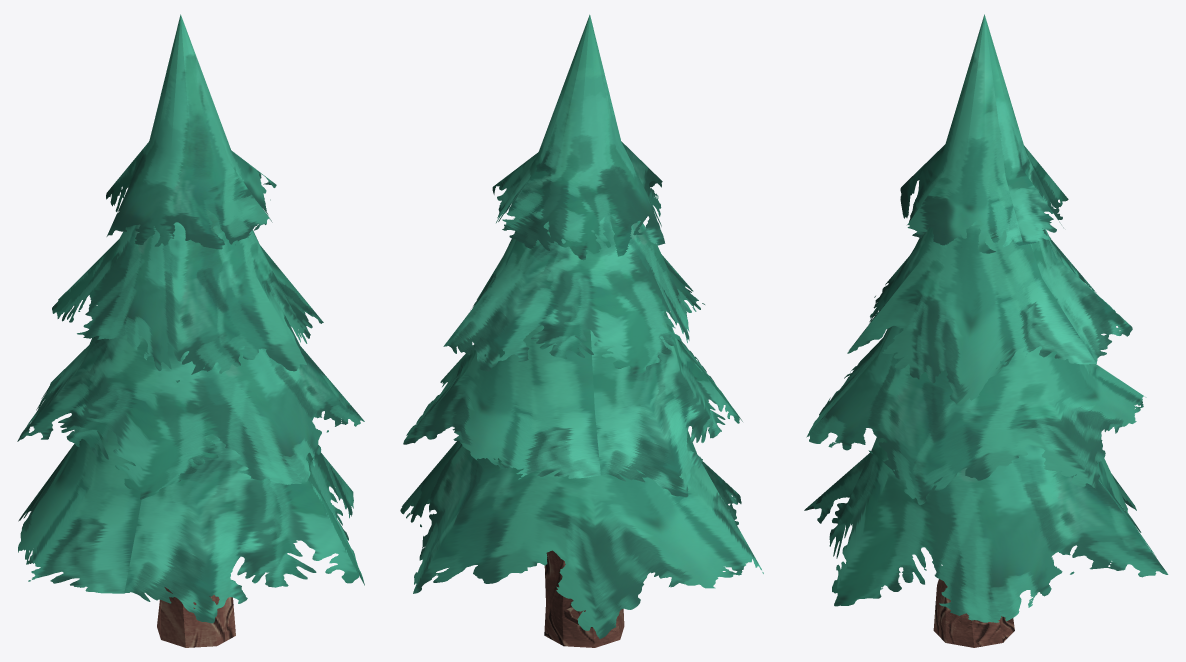
Rendered from TreeA.fbx.
The picture shows the model from 3 angles, left to right: view 1: azimuth 30°, elevation 25°; view 2: azimuth 150°, elevation 25°; view 3: azimuth 270°, elevation 25°; orthographic projection.
Visible parts, largest first — view 1: Tree_A; view 2: Tree_A; view 3: Tree_A.
Part boxes in pixels (left/top/right/bottom): Tree_A: left=17, top=14, right=364, bottom=647; Tree_A: left=400, top=14, right=763, bottom=647; Tree_A: left=804, top=14, right=1168, bottom=647.
Size of the model in its own units: 200 by 332 by 183.
